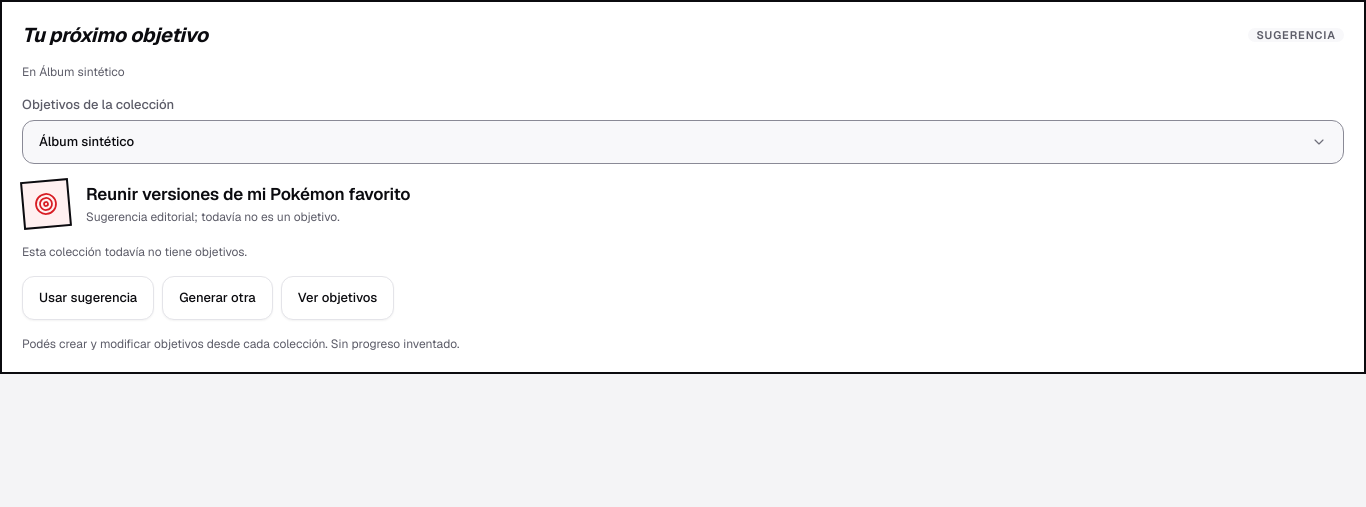
Scenario: Objetivo de Home — S3/S4 › cambiar colección descarta editor y una respuesta tardía de guardado no contamina la nueva
What coordinates should you click on to do the following:
click the button "Usar sugerencia"
I would click on:
 (88, 298)
Its box is [22, 276, 154, 320].
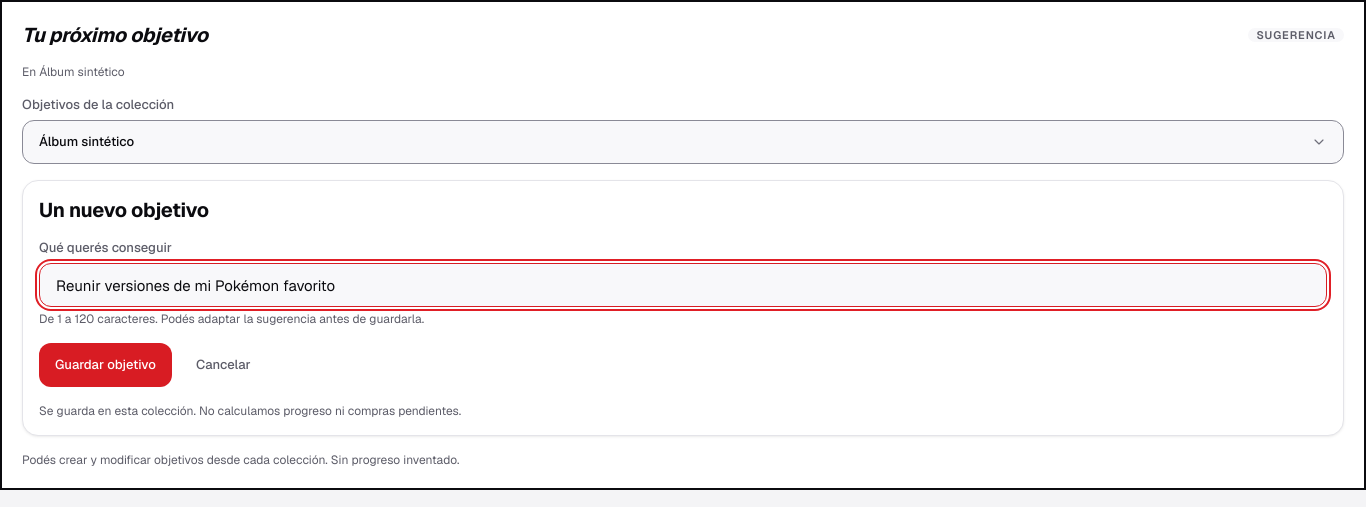
What coordinates should you click on to do the following:
click the button "Guardar objetivo"
I would click on:
 (105, 365)
Its box is [39, 343, 172, 387].
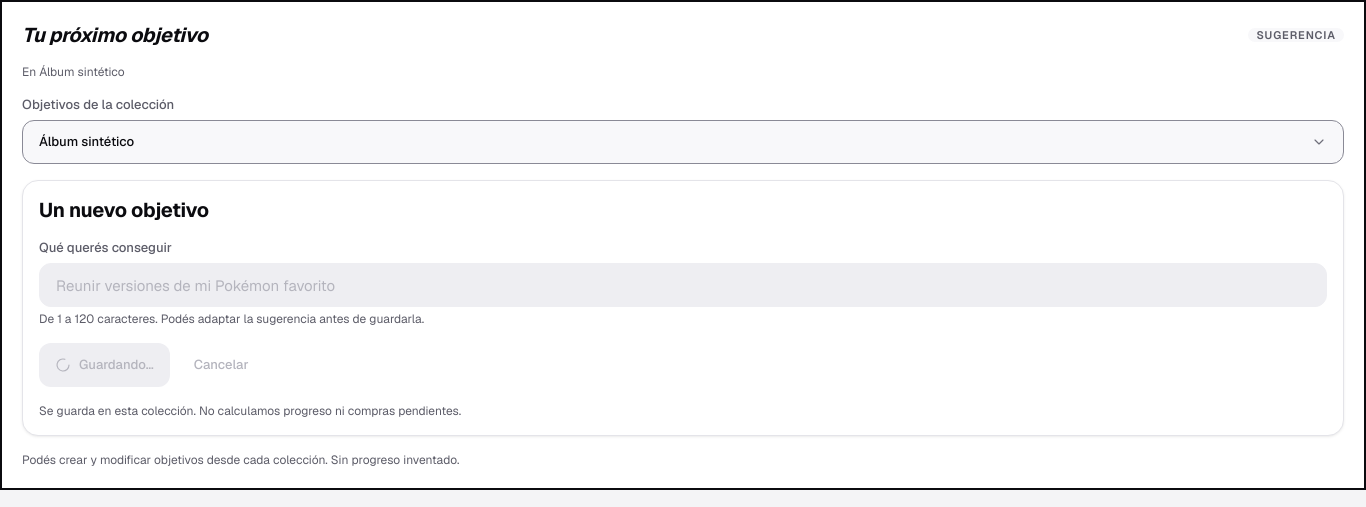
What coordinates should you click on to do the following:
click the dropdown named "Objetivos de la colección"
I would click on:
 (87, 142)
Its box is [22, 120, 1344, 164].
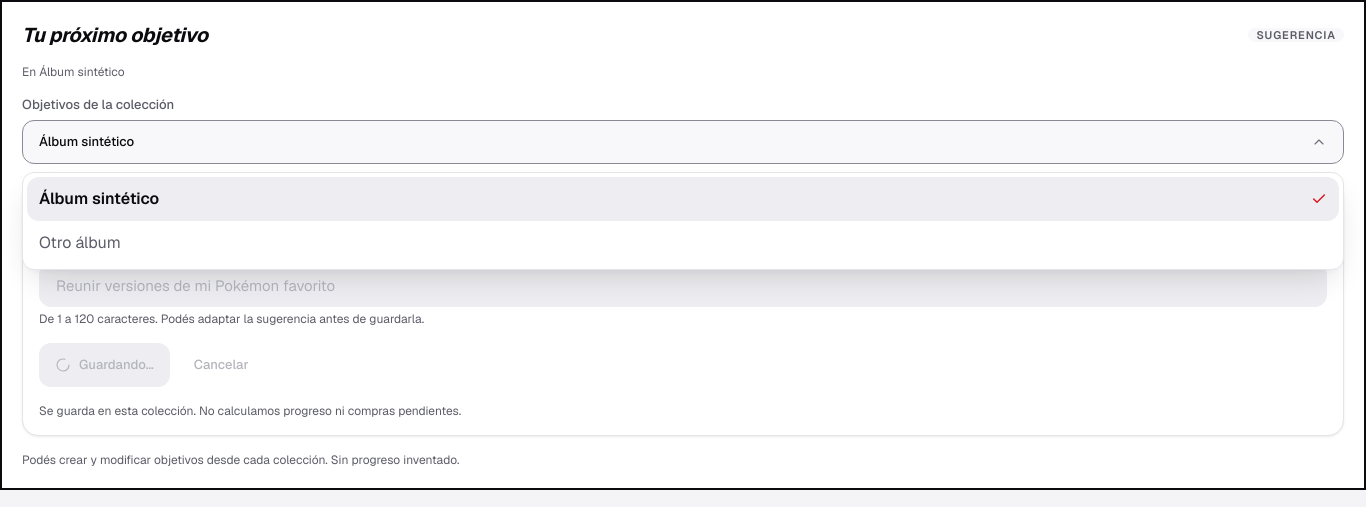
What coordinates should you click on to do the following:
click the option "Otro álbum"
I would click on:
 (80, 242)
Its box is [39, 232, 121, 253].
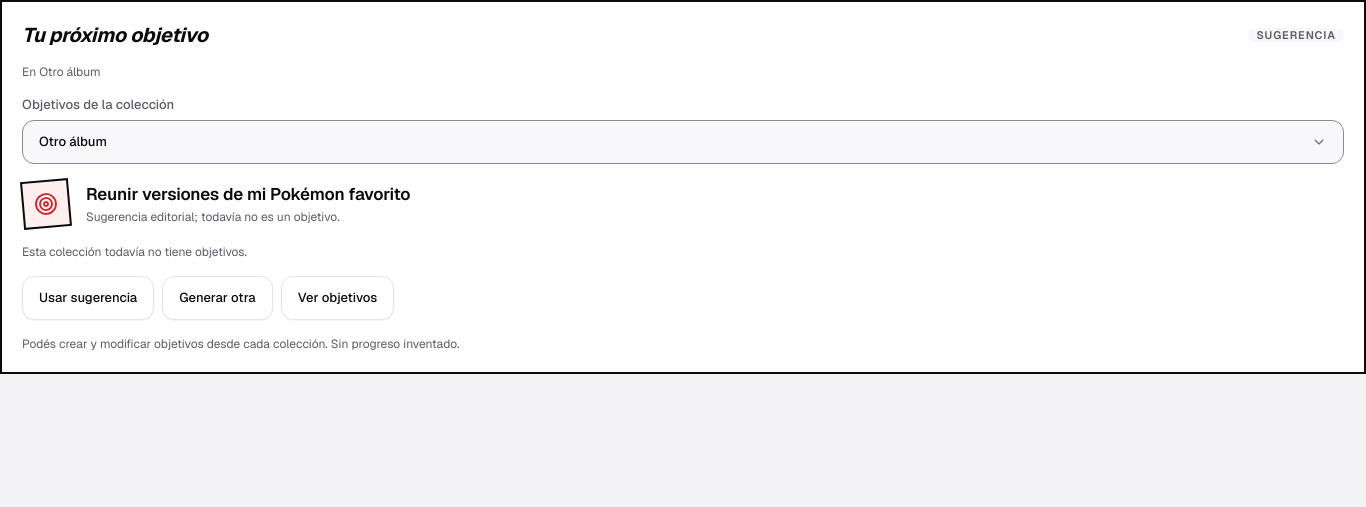
Result: the heading "Reunir versiones de mi Pokémon favorito" is shown at [86, 183, 410, 205]
Result: the field is gone
Result: the text "En Otro álbum" is shown at [22, 64, 101, 80]
